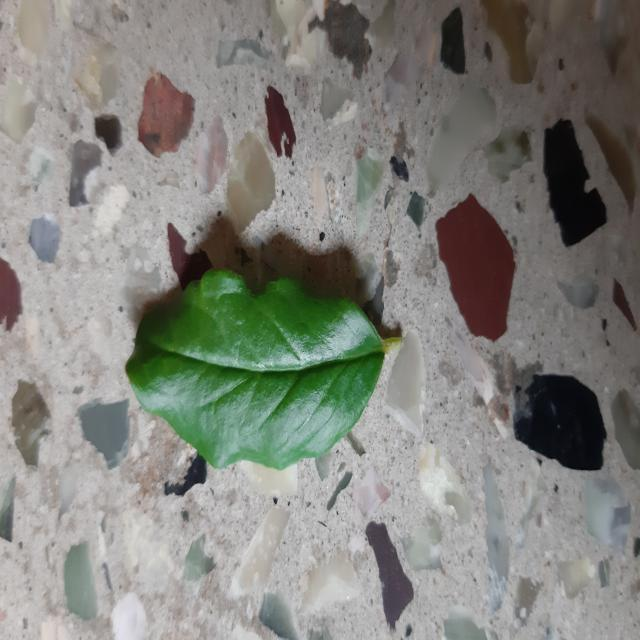leaf: (124, 266, 398, 471)
